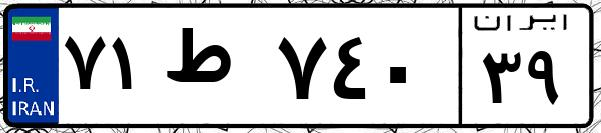0: (385, 28, 445, 110)
1: (110, 28, 158, 98)
3: (475, 38, 525, 113)
4: (330, 28, 385, 110)
7: (270, 28, 330, 110), (57, 26, 110, 100)
9: (525, 38, 570, 115)
ط: (158, 20, 270, 120)
